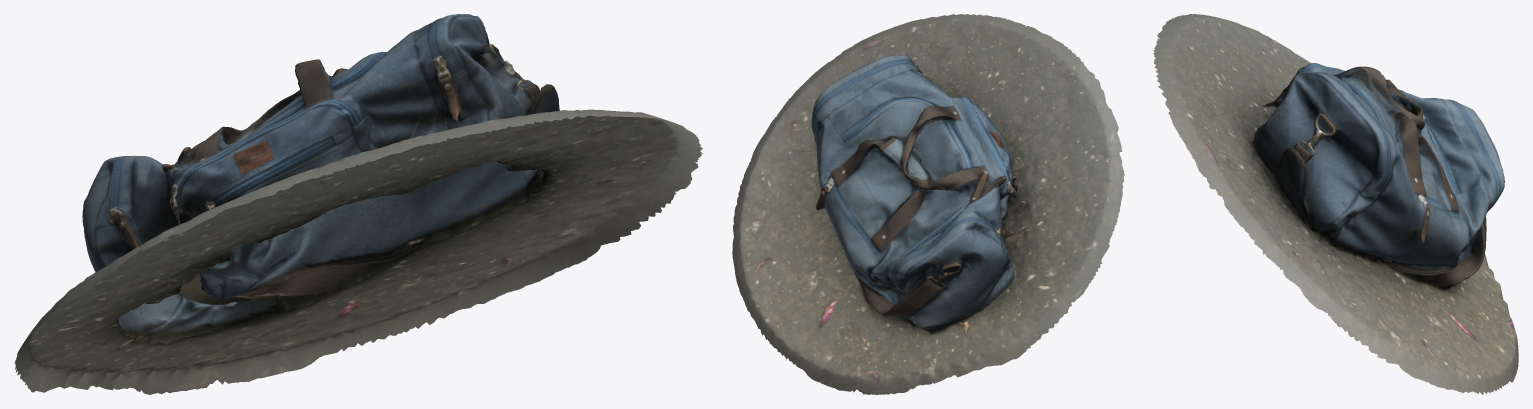
Rendered from gym bag flat.fbx.
3 renders of one model, left to right at view 1: azimuth 30°, elevation 25°; view 2: azimuth 150°, elevation 25°; view 3: azimuth 270°, elevation 25°, orthographic. The views are drawn at different scales.
Parts seen in each view (by area): view 1: Model; view 2: Model; view 3: Model.
Boxes of the visible parts, x1,y1,x2,y2 form: Model: (14, 14, 702, 394); Model: (732, 14, 1124, 394); Model: (1153, 14, 1518, 394).
Bounding box in the file's own units: 3.92 × 2.86 × 2.71.
